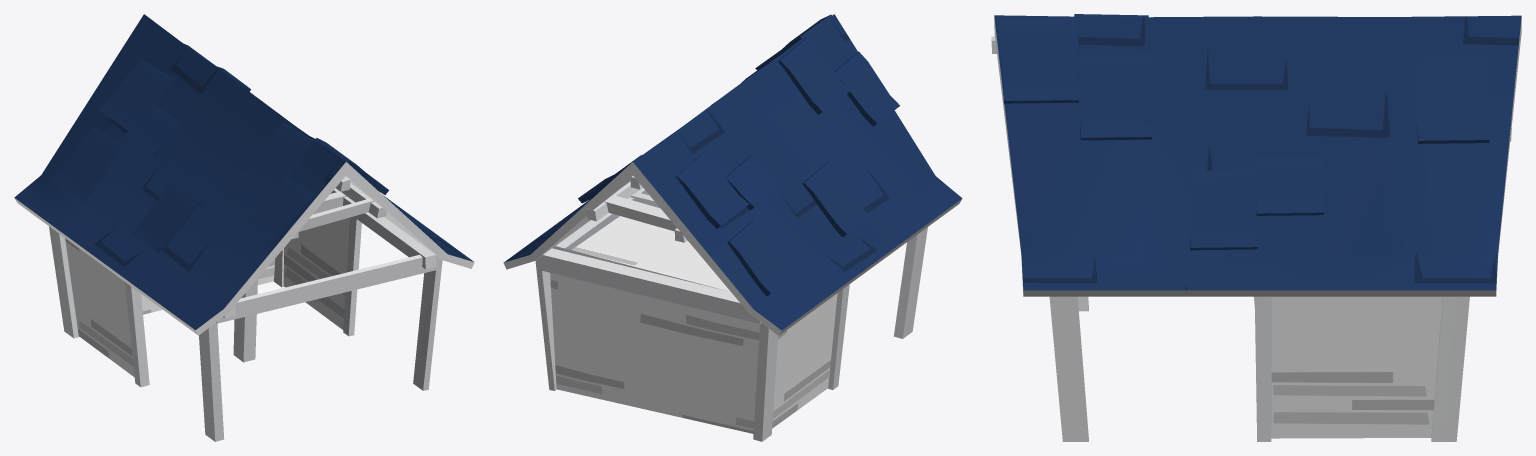
File: SM_Stable.fbx
3 views of the same model, side by side, from view 1: azimuth 30°, elevation 25°; view 2: azimuth 150°, elevation 25°; view 3: azimuth 270°, elevation 25° (orthographic). The views are drawn at different scales.
Parts seen in each view (by area): view 1: SM_Stable; view 2: SM_Stable; view 3: SM_Stable.
Boxes of the visible parts, x1,y1,x2,y2 form: SM_Stable: [14, 14, 474, 441]; SM_Stable: [503, 14, 962, 441]; SM_Stable: [991, 14, 1521, 441].
Bounding box in the file's own units: 453 × 428 × 572.
